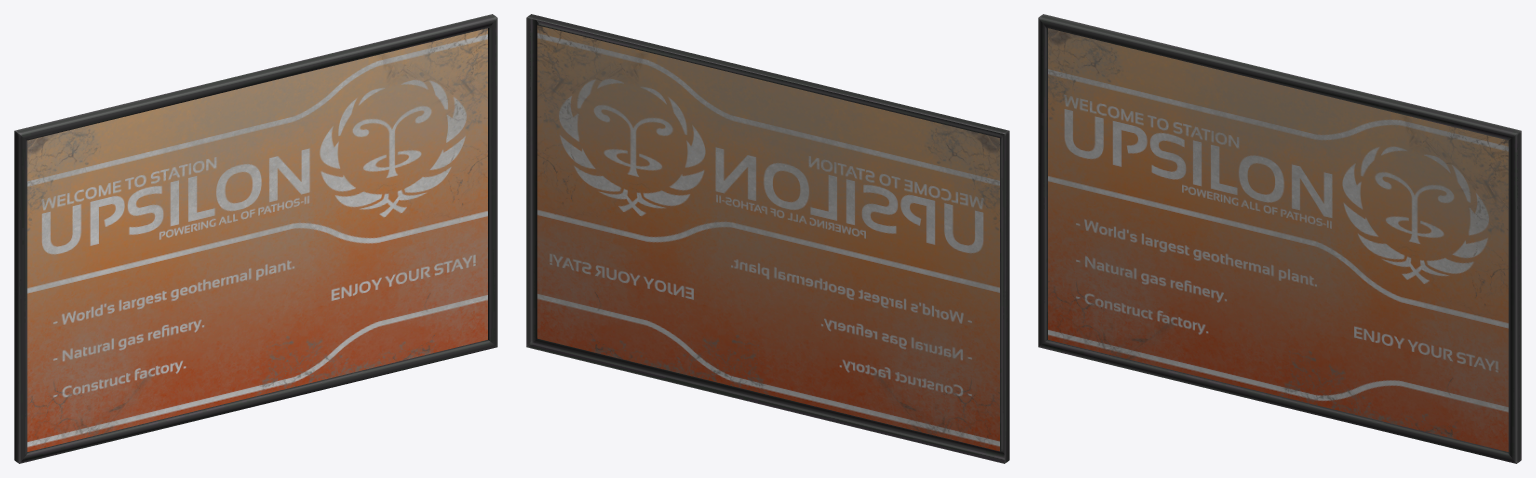
File: upsilon_information_01.dae
The picture shows the model from 3 angles, left to right: view 1: azimuth 30°, elevation 25°; view 2: azimuth 150°, elevation 25°; view 3: azimuth 330°, elevation 25°; orthographic projection.
Visible parts, largest first — view 1: welcome, frame; view 2: welcome, frame; view 3: welcome, frame.
Part boxes in pixels (x1,y1,x2,y2): welcome: [27, 28, 487, 451]; frame: [14, 14, 497, 463]; welcome: [537, 25, 999, 451]; frame: [526, 14, 1009, 463]; welcome: [1048, 28, 1508, 451]; frame: [1038, 14, 1521, 463].
Size of the model in its own units: 1.53 by 1 by 0.027.
